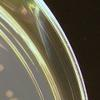white: (4, 88, 14, 99), (6, 94, 20, 100), (0, 62, 5, 74)
